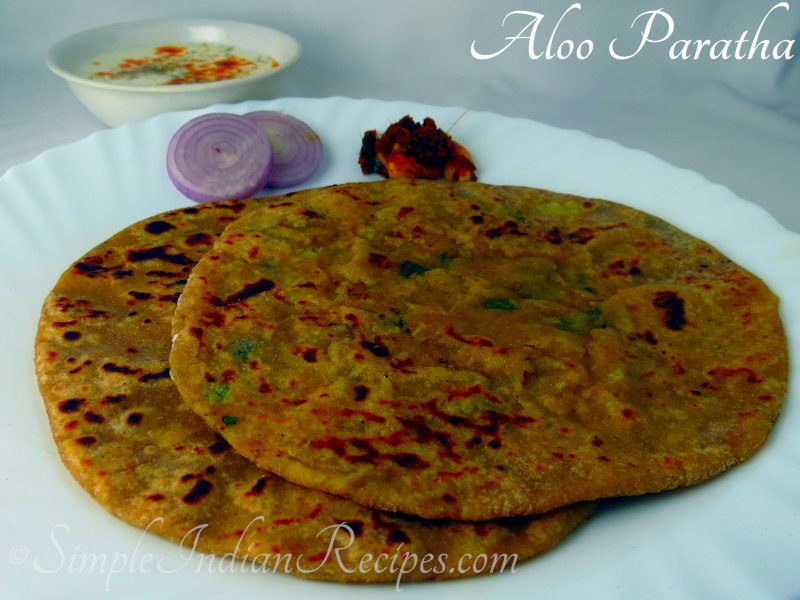aloo_paratha: (33, 179, 790, 589)
